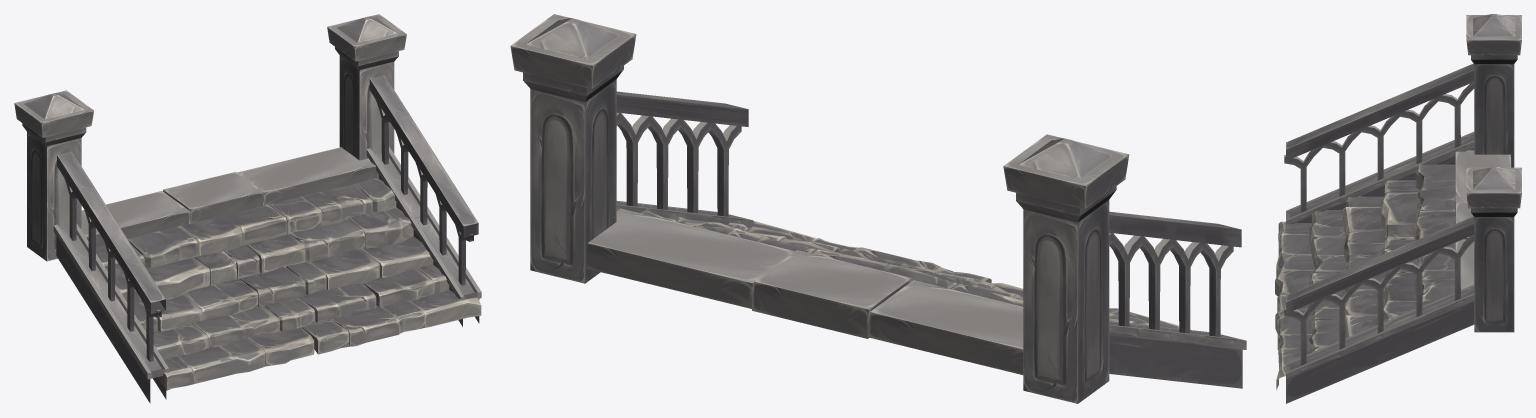
Rendered from taijie03.fbx.
3 renders of one model, left to right at view 1: azimuth 30°, elevation 25°; view 2: azimuth 150°, elevation 25°; view 3: azimuth 270°, elevation 25°, orthographic. The views are drawn at different scales.
Parts seen in each view (by area): view 1: TIJI005; view 2: TIJI005; view 3: TIJI005.
Boxes of the visible parts, box(x1,y1,x2,y2) form: TIJI005: box(14, 14, 481, 403); TIJI005: box(510, 14, 1246, 403); TIJI005: box(1275, 14, 1521, 403).
Size of the model in its own units: 134 by 81.01 by 78.19.
Materials: 1 (1 with a texture image).
